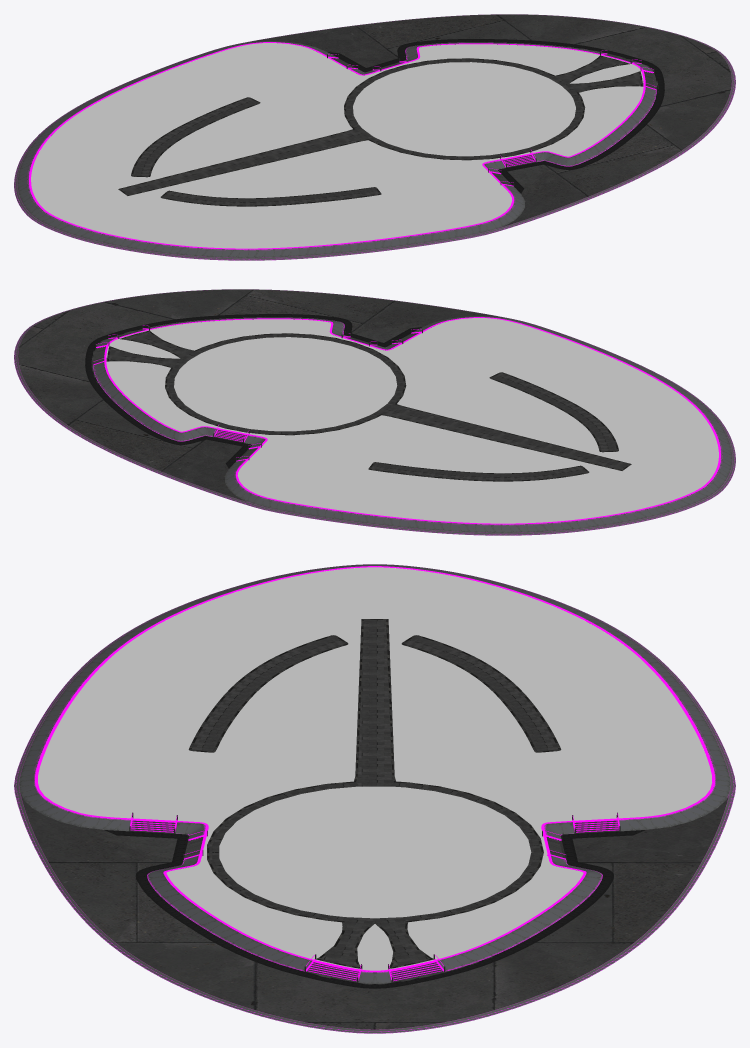
Rendered from Egg_Shape_Base.fbx.
3 views of the same model, one above another, from view 1: azimuth 30°, elevation 25°; view 2: azimuth 150°, elevation 25°; view 3: azimuth 270°, elevation 25° (orthographic). The views are drawn at different scales.
Parts seen in each view (by area): view 1: BAse, Bottom_base; view 2: BAse, Bottom_base; view 3: BAse, Bottom_base.
Boxes of the visible parts, x1,y1,x2,y2 form: BAse: [14, 39, 664, 260]; Bottom_base: [243, 14, 735, 234]; BAse: [85, 314, 735, 535]; Bottom_base: [14, 289, 507, 509]; BAse: [14, 564, 735, 988]; Bottom_base: [14, 783, 735, 1033].
Size of the model in its own units: 6226 by 75.18 by 4045.
